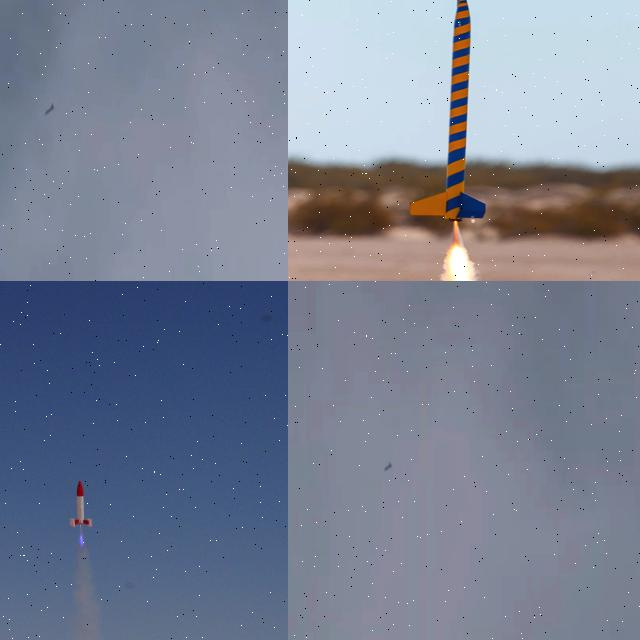Rocket: (406, 0, 487, 224), (70, 480, 92, 527), (44, 102, 54, 116), (384, 463, 392, 470)
